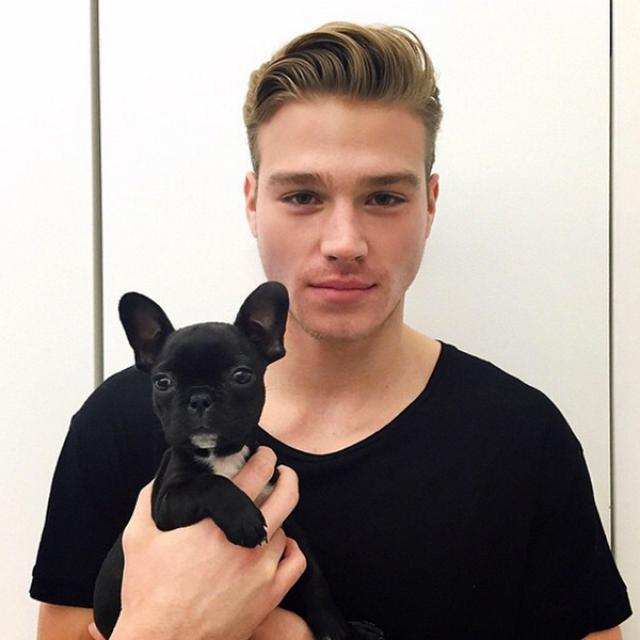human: (30, 22, 640, 639)
